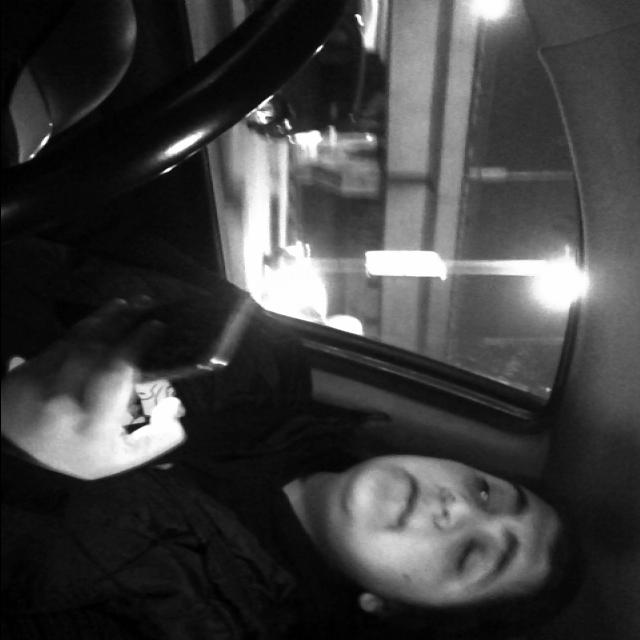mobile use: (91, 290, 252, 391)
